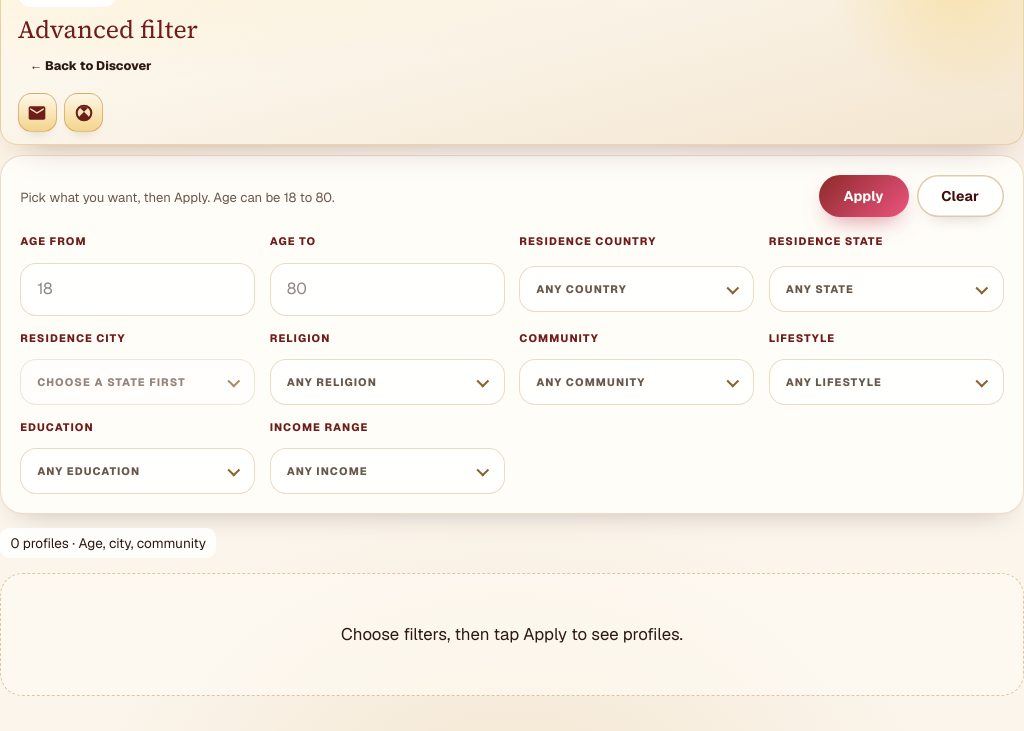
Discover feed › filter page lists nothing until Apply
Expected: the link "name 0" is not shown
Click the button "Apply".
click(864, 196)  # box [819,175,908,218]
(page scrolled)
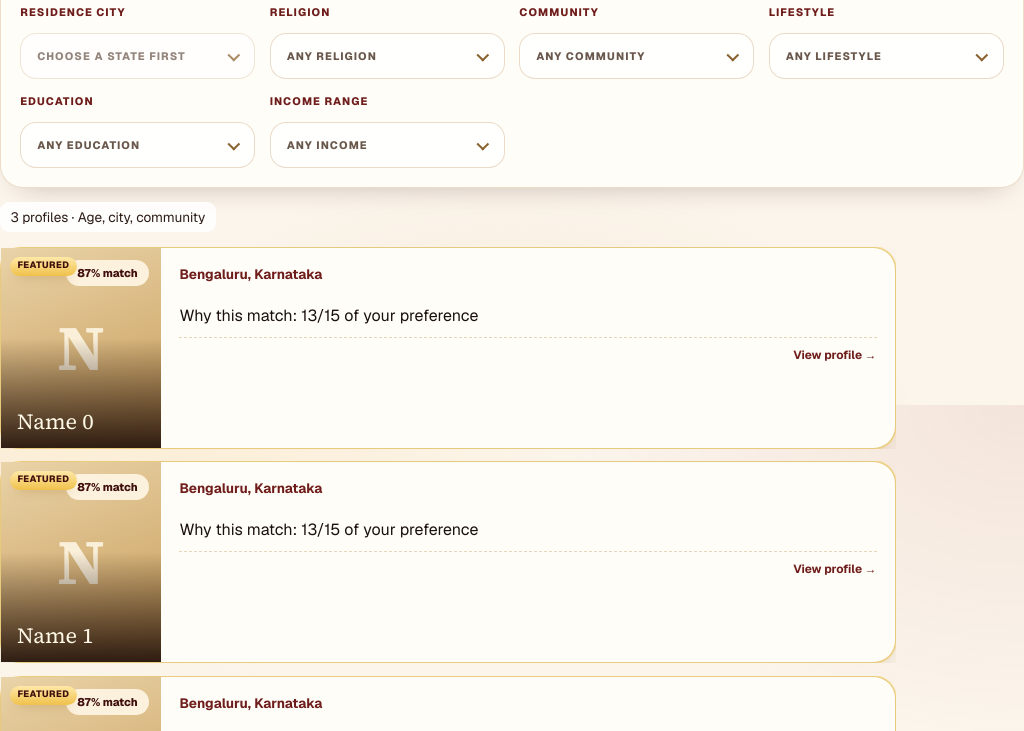
Expected: the link "Name 0" is shown, [0,247,896,449]
